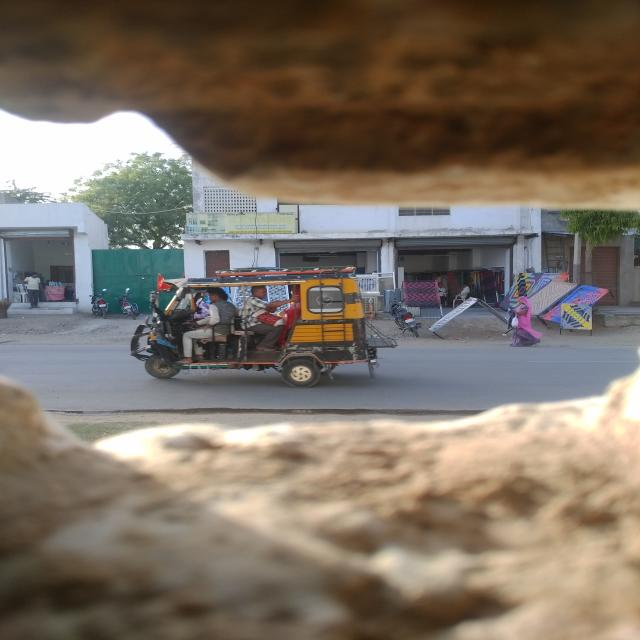Bike: (383, 298, 433, 338), (115, 289, 146, 325), (85, 289, 116, 320)
tempo: (137, 267, 376, 390)
